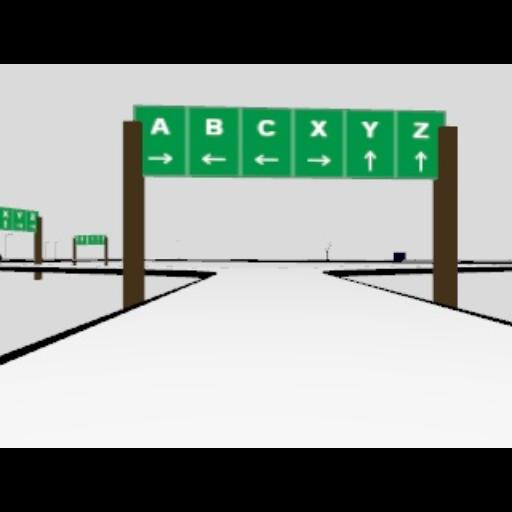A: (148, 116, 170, 134)
B: (205, 117, 223, 135)
C: (257, 118, 275, 136)
Left: (200, 152, 228, 164), (252, 154, 280, 164)
Right: (306, 154, 332, 166), (147, 152, 173, 164)
Straight: (413, 150, 427, 172), (364, 149, 376, 171)
X: (308, 118, 328, 136)
Y: (360, 120, 378, 138)
Z: (411, 122, 429, 138)
